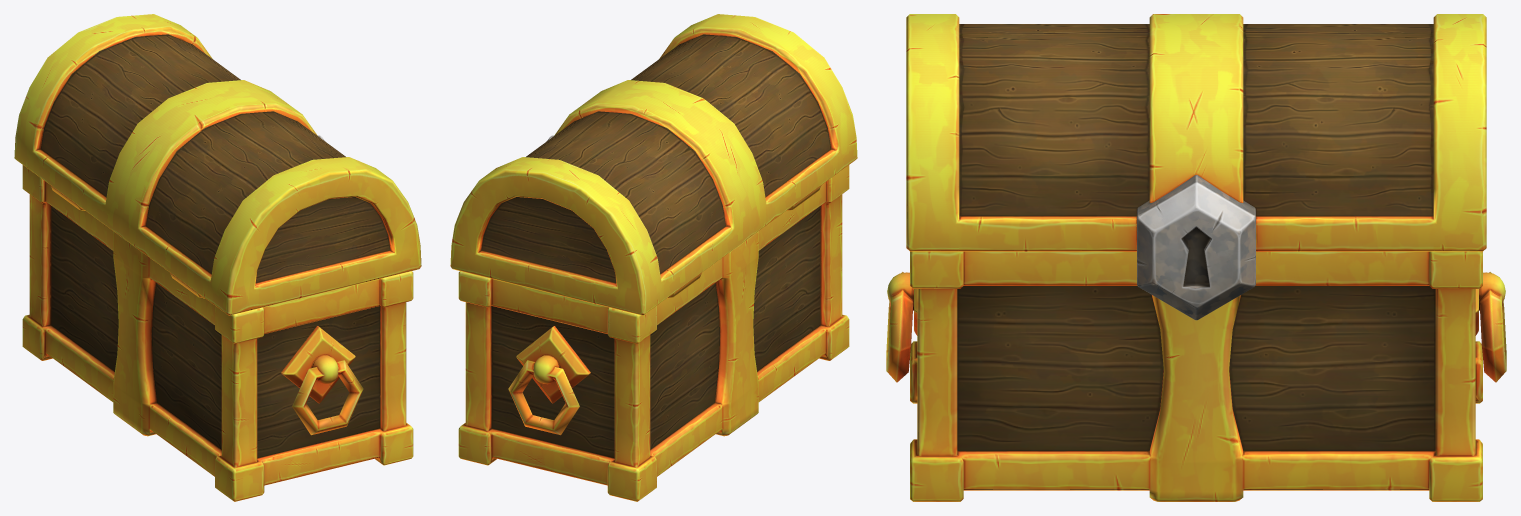
The model's file is SM_Large_Treasure_Chest.fbx.
The picture shows the model from 3 angles, left to right: view 1: azimuth 30°, elevation 25°; view 2: azimuth 150°, elevation 25°; view 3: azimuth 270°, elevation 25°; orthographic projection. The views are drawn at different scales.
Visible parts, largest first — view 1: SM_Large_Treasure_Chest_LOD0; view 2: SM_Large_Treasure_Chest_LOD0; view 3: SM_Large_Treasure_Chest_LOD0.
Boxes of the visible parts, box(x1,y1,x2,y2) form: SM_Large_Treasure_Chest_LOD0: box(14, 14, 421, 501); SM_Large_Treasure_Chest_LOD0: box(450, 14, 857, 501); SM_Large_Treasure_Chest_LOD0: box(886, 14, 1506, 501).
Size of the model in its own units: 68.65 by 130 by 95.94.
2 materials, 2 textured.
